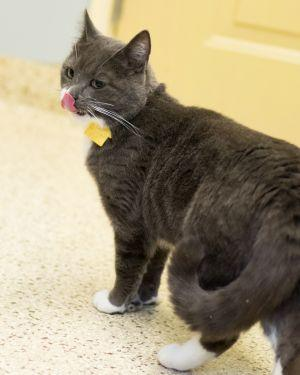rblue: (45, 6, 167, 129)
